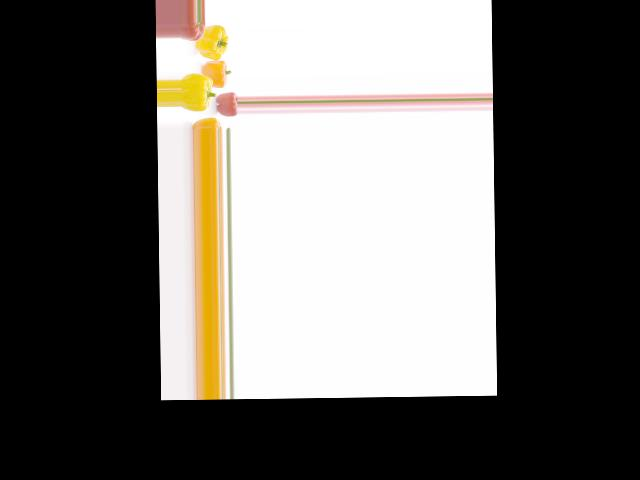bell_pepper: (192, 115, 223, 130)
